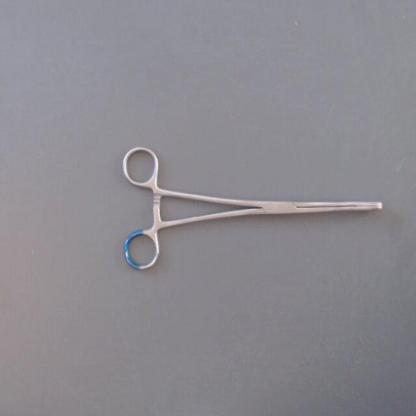Sponge Forceps: (117, 140, 387, 274)
